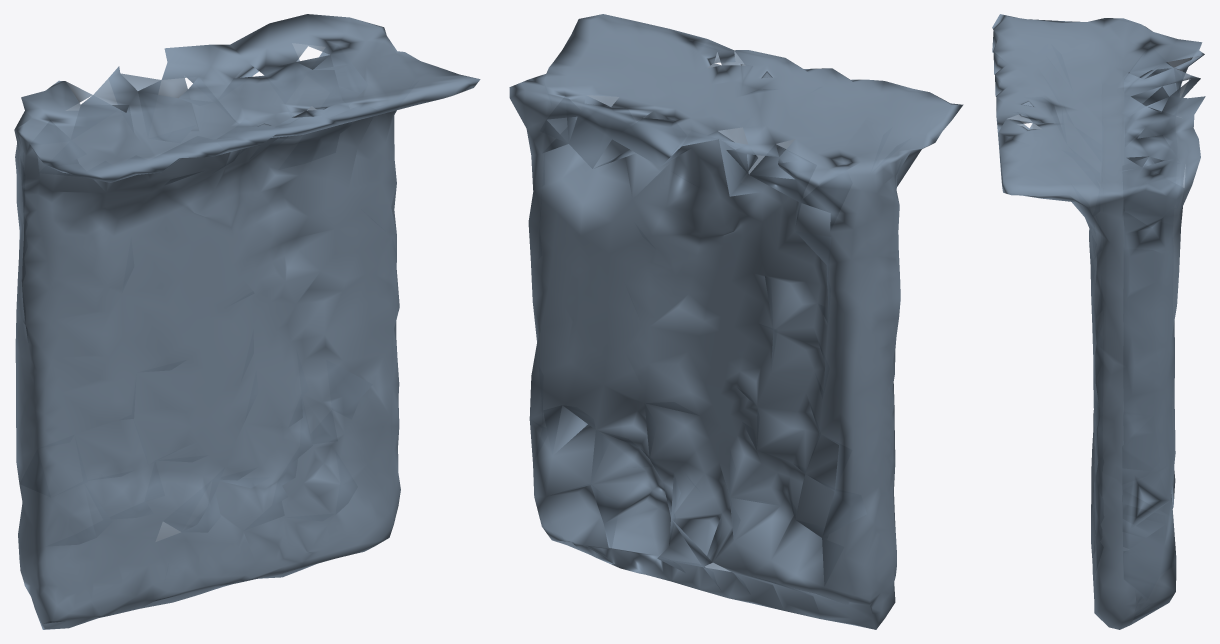
The model's file is bed_0024_recon.obj.
3 views of the same model, side by side, from view 1: azimuth 30°, elevation 25°; view 2: azimuth 150°, elevation 25°; view 3: azimuth 270°, elevation 25° (orthographic). The views are drawn at different scales.
Size of the model in its own units: 1.23 by 1.48 by 0.6076.
